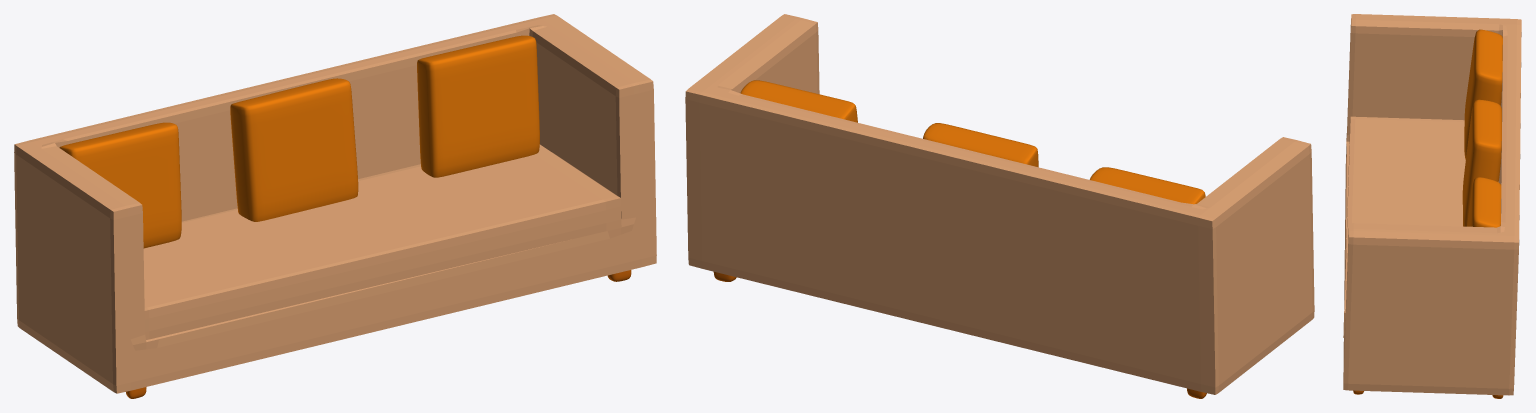
Rendered from sofa.fbx.
3 renders of one model, left to right at view 1: azimuth 30°, elevation 25°; view 2: azimuth 150°, elevation 25°; view 3: azimuth 270°, elevation 25°, orthographic. The views are drawn at different scales.
Parts seen in each view (by area): view 1: sofa, pillow.001, pillow.002, pillow; view 2: sofa, pillow.001, pillow.002, pillow; view 3: sofa, pillow.001, pillow, pillow.002.
Part boxes in pixels (left/top/right/bottom): sofa: left=14, top=14, right=656, bottom=393; pillow.001: left=230, top=78, right=358, bottom=221; pillow.002: left=417, top=35, right=539, bottom=177; pillow: left=59, top=122, right=181, bottom=248; sofa: left=685, top=14, right=1314, bottom=394; pillow.001: left=923, top=123, right=1038, bottom=167; pillow.002: left=740, top=80, right=857, bottom=122; pillow: left=1089, top=167, right=1205, bottom=204; sofa: left=1343, top=14, right=1521, bottom=395; pillow.001: left=1462, top=99, right=1501, bottom=226; pillow: left=1464, top=29, right=1502, bottom=159; pillow.002: left=1467, top=177, right=1501, bottom=227.
Size of the model in its own units: 376 by 134 by 126.
